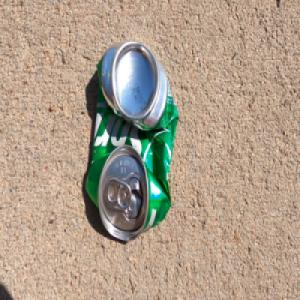SodaCan: (85, 39, 180, 244)
